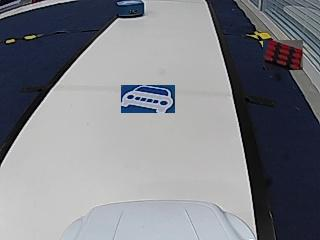prop: (117, 1, 144, 18)
